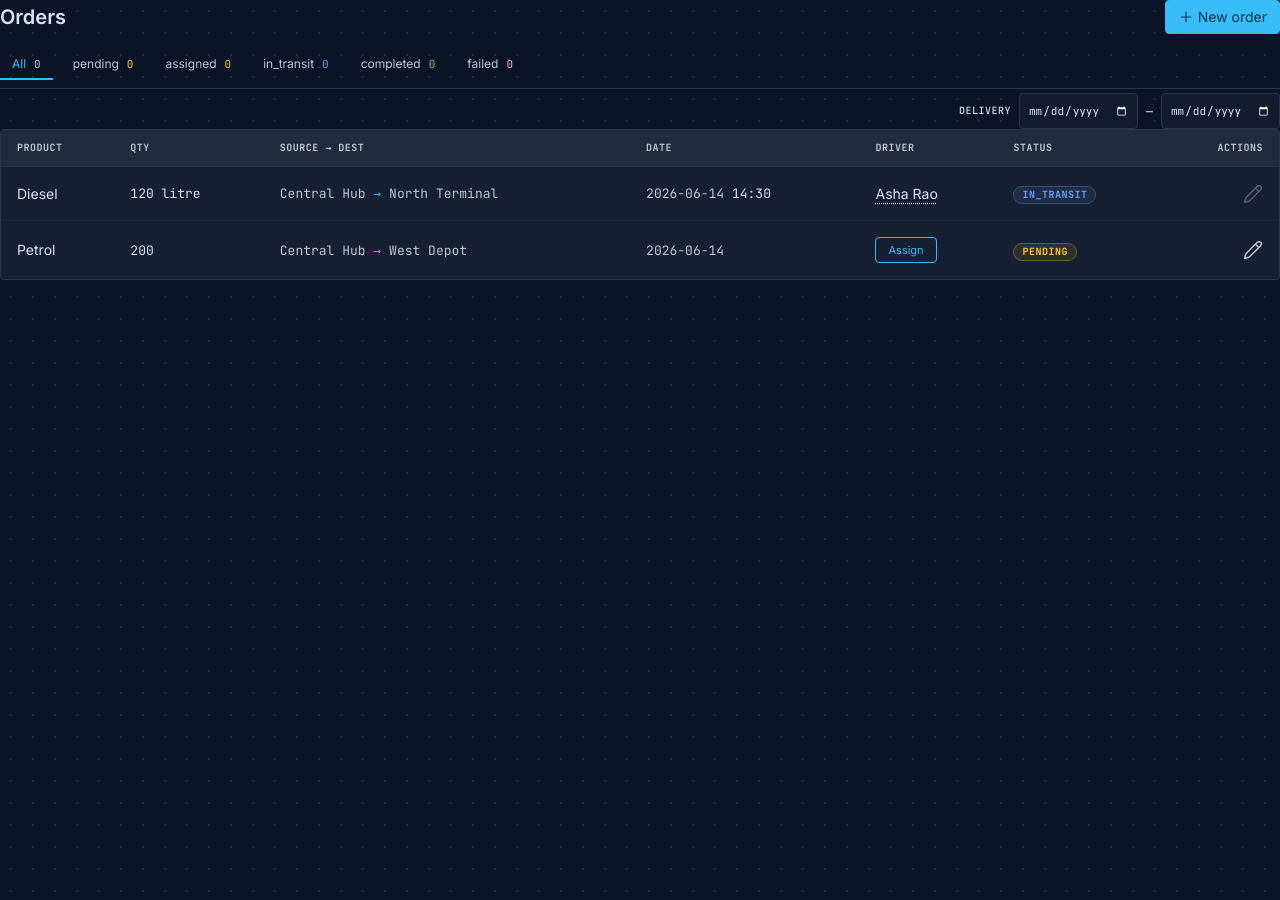
Test: Orders page › blocks submit when source and destination are the same hub/terminal
Expected: the text "Asha Rao" is shown, [876,184,938,202]
Click the button "New order". click: click(1222, 17)
box: [1165,0,1279,34]
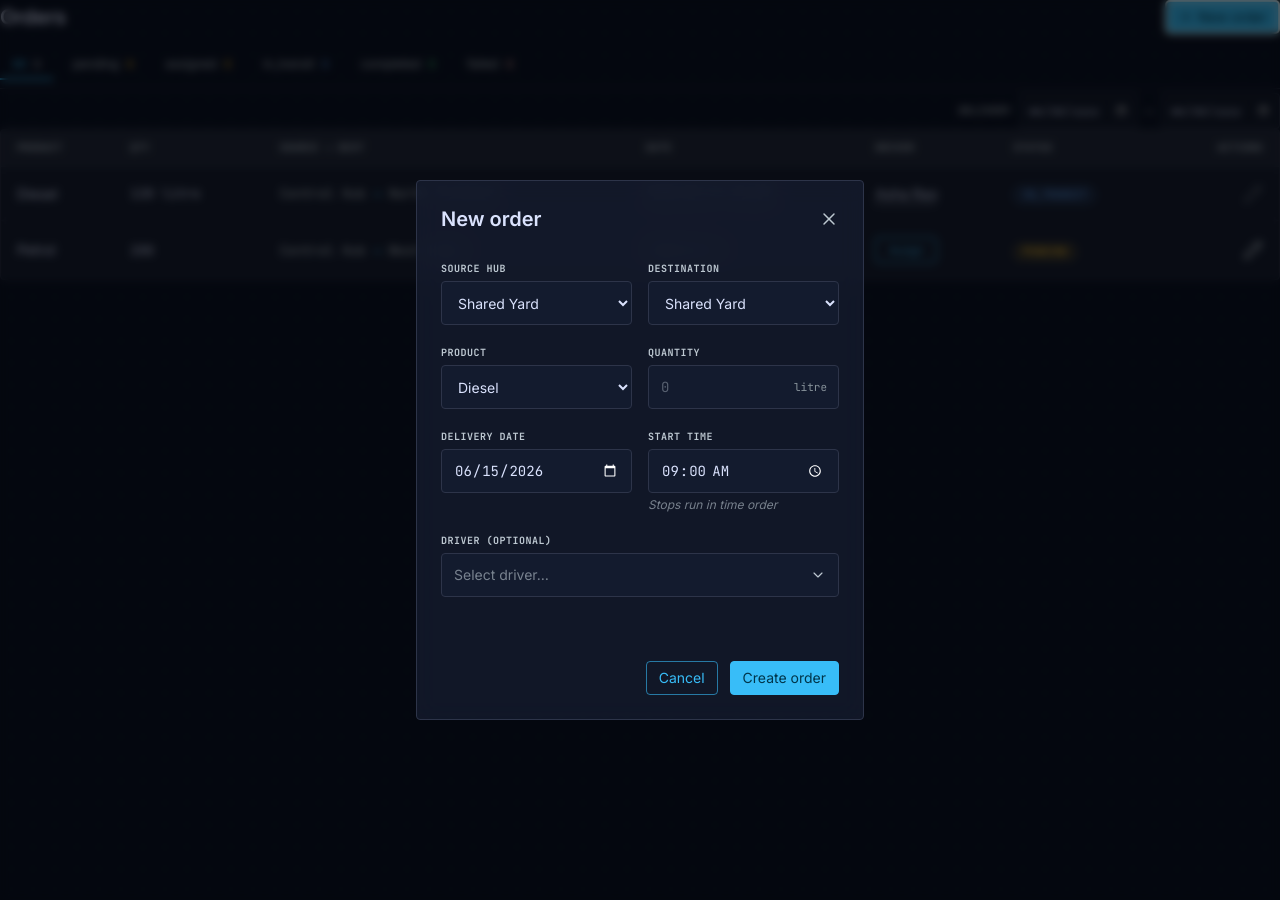
Type "10" into the number field labelled "Quantity". click: (744, 387)
box: [648,365,839,409]
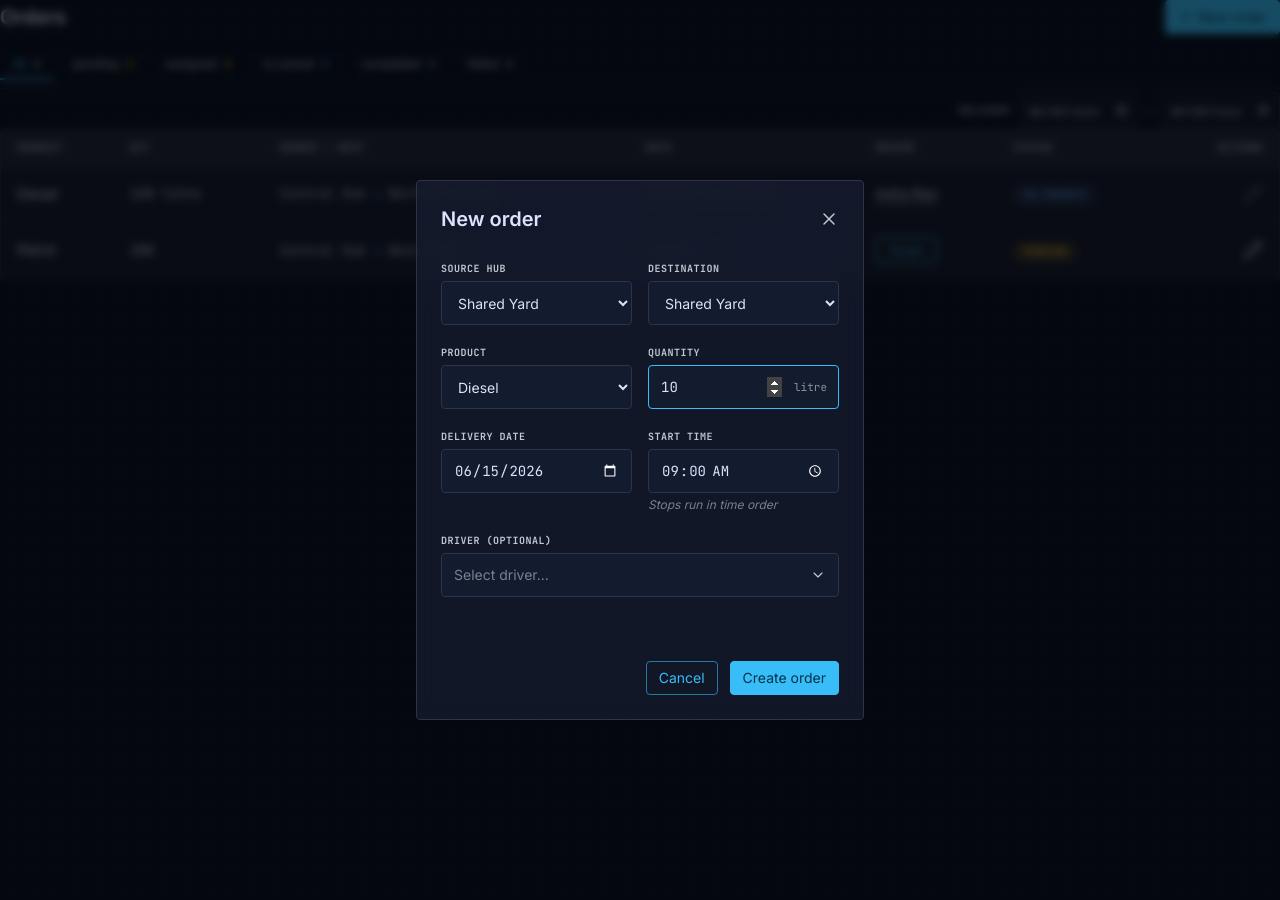
Click the button "Create order". click: click(784, 678)
box: [730,661,839,695]
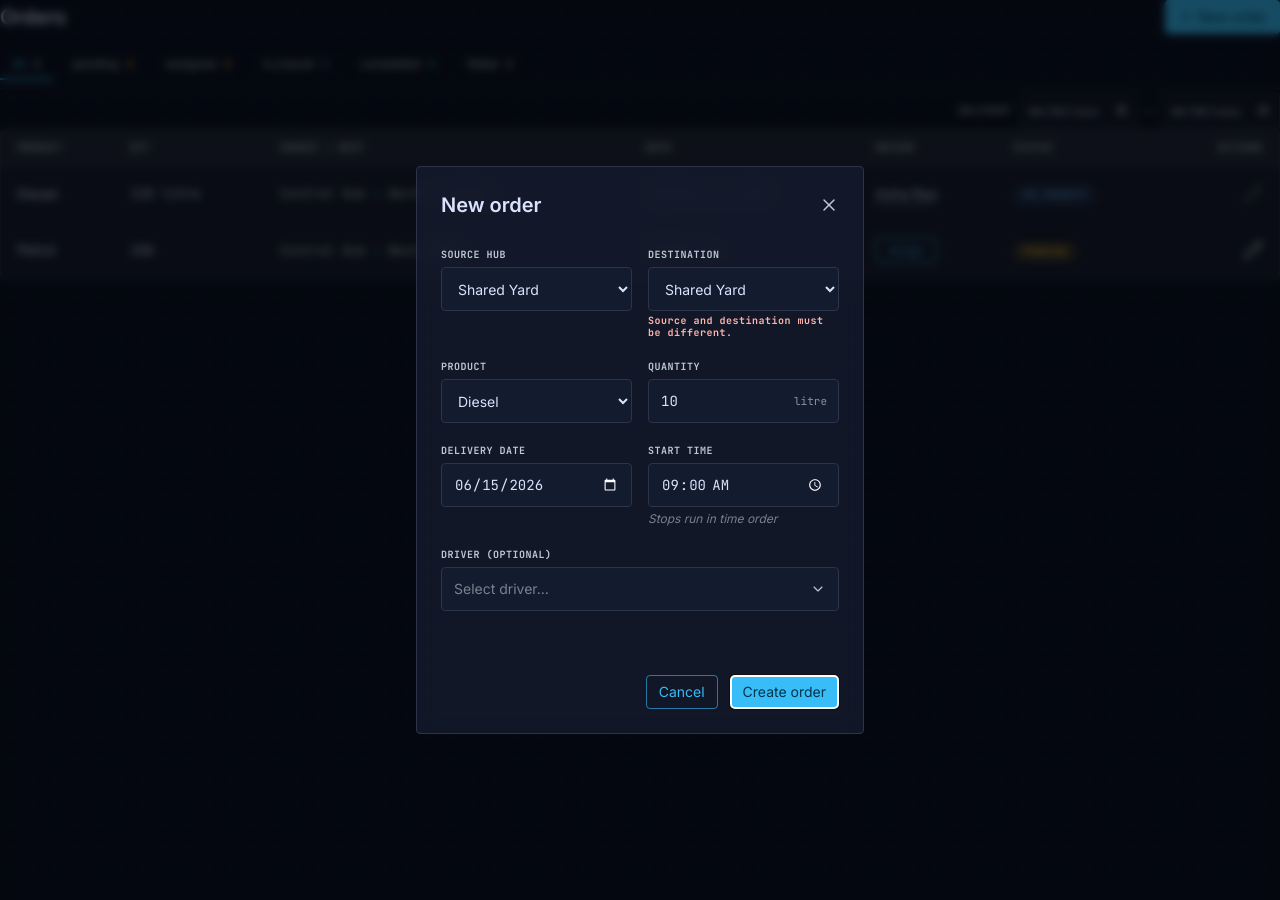
Expected: the text "Source and destination must be different." is shown, [648,315,839,339]
